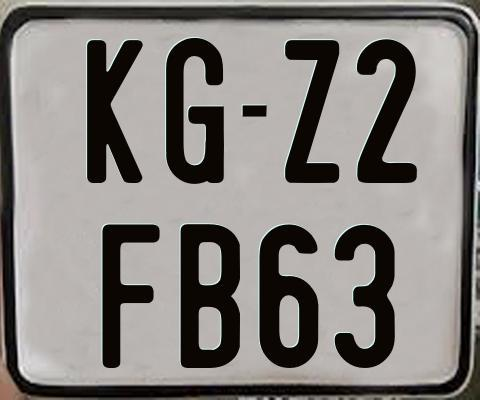2: (357, 36, 418, 185)
3: (334, 223, 400, 367)
6: (259, 222, 325, 372)
B: (179, 221, 243, 365)
F: (99, 224, 158, 369)
G: (164, 36, 226, 188)
K: (84, 39, 141, 188)
Z: (284, 40, 342, 185)
